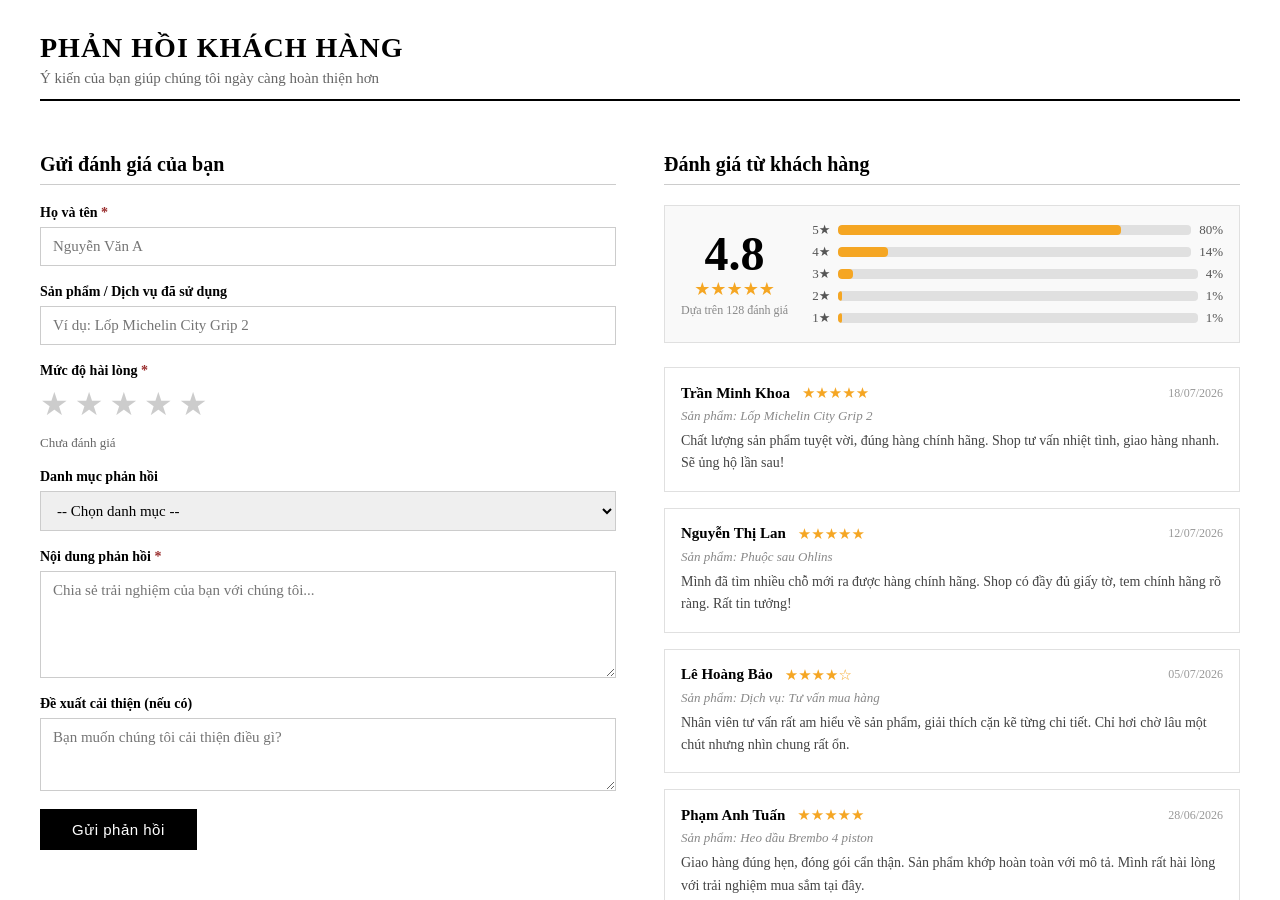
Scenario: FeedbackPage › star rating interaction updates label
The width and height of the screenshot is (1280, 900).
Expected: the text "Chưa đánh giá" is shown, [40,435,116,450]
What coordinates should you click on to do the following:
click the 4th text "★"
I would click on:
 (158, 404)
Its box is [144,385,173,423].
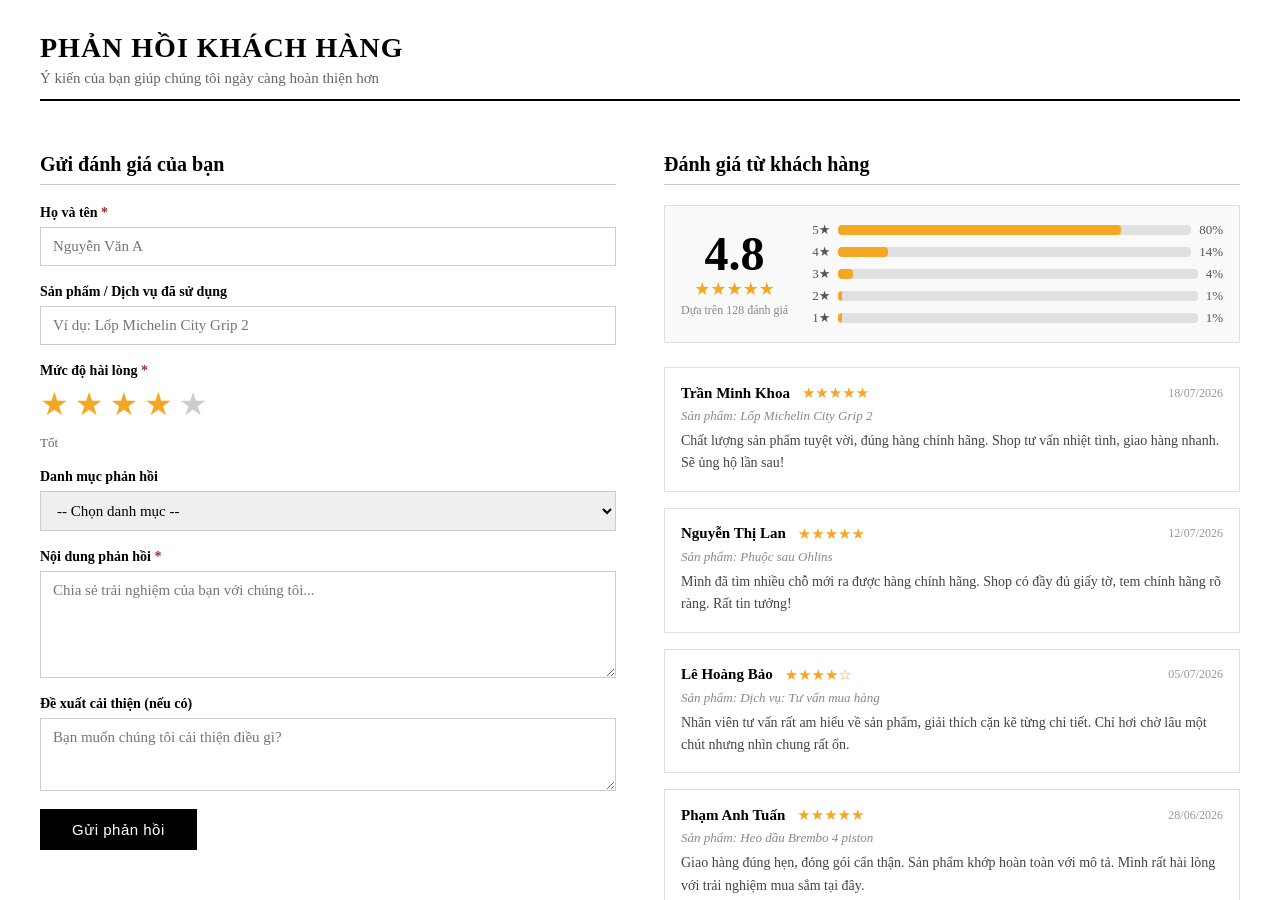
Expected: the text "Tốt" is shown, [40,435,58,450]
